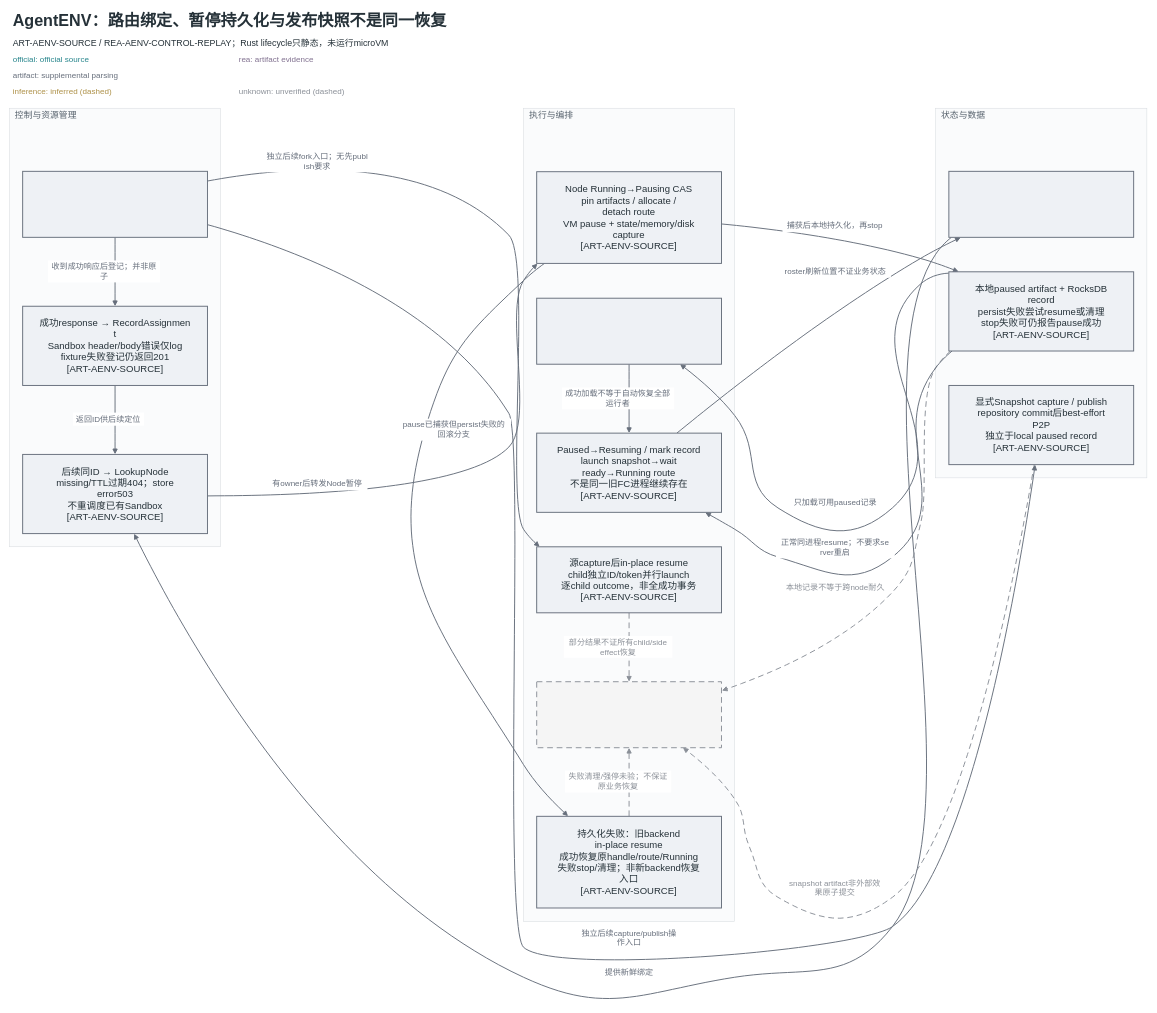
Image size: 1157x1013. Some labels were removed from this diagram. The box of each missing label's shape, as (x1, y1, x2, y2) in pixels:
Node完整roster Heartbeat 刷新/删除绑定；可重建内存索引 Get不续TTL，非任务恢复 [ART-AENV-SOURCE]: (948, 171, 1134, 237)
可选：同本地存储server重启 load paused；Resuming残留丢弃 mode不兼容可见但不可resume [ART-AENV-SOURCE]: (536, 297, 722, 364)
新建无Sandbox ID Gateway Schedule → Node create 源调用不含原子调度/登记事务 [ART-AENV-SOURCE]: (22, 171, 208, 237)
未证：断电/源node损失 全部Agent日志/外部效果原子恢复 消费端身份与任务/实例绑定 [ART-AENV-SOURCE]: (536, 681, 722, 748)
